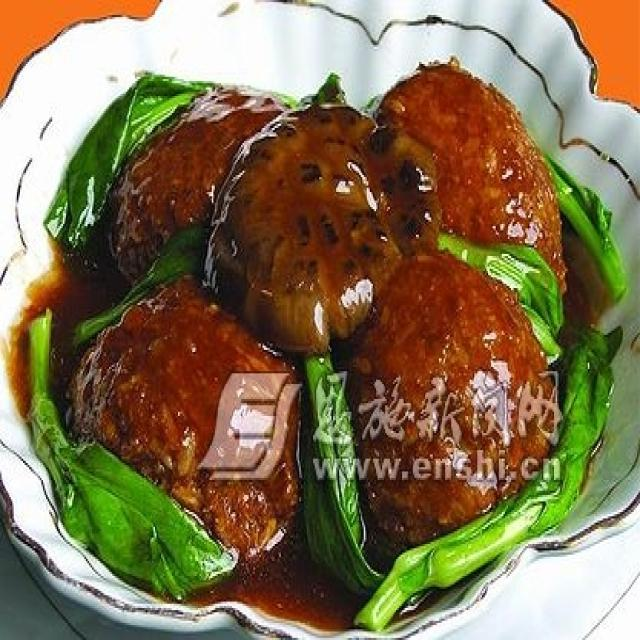猪肉菜式: (21, 37, 608, 612)
